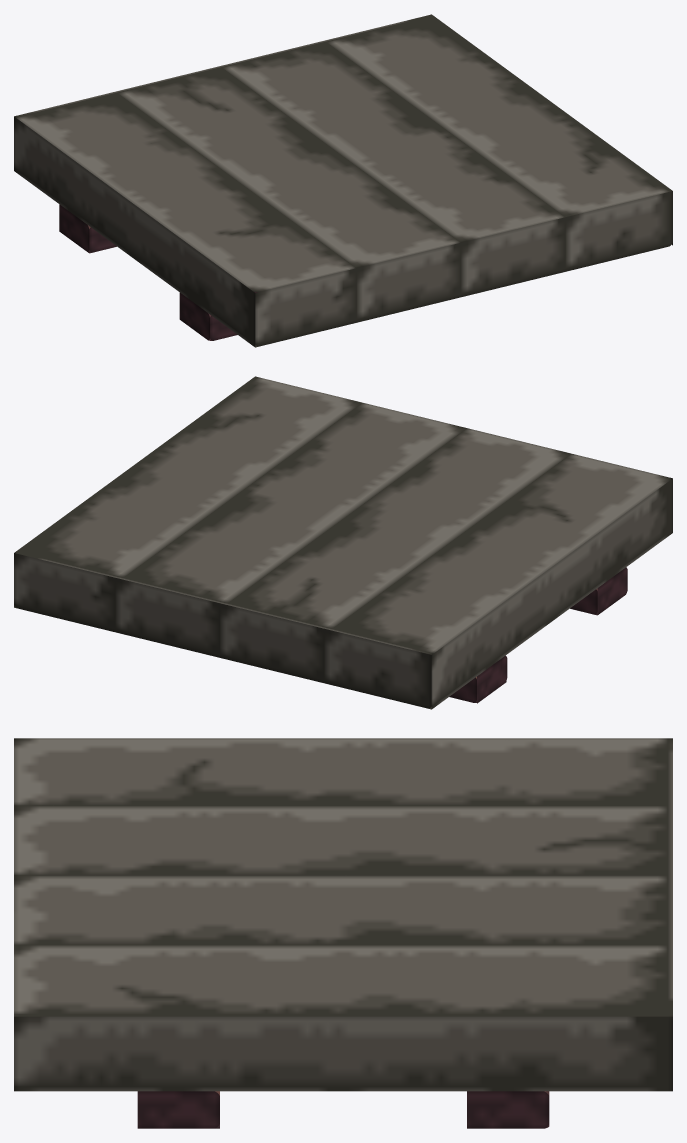
File: Ceiling_2x2_Supported.fbx
The picture shows the model from 3 angles, top to bottom: view 1: azimuth 30°, elevation 25°; view 2: azimuth 150°, elevation 25°; view 3: azimuth 270°, elevation 25°; orthographic projection. The views are drawn at different scales.
Parts seen in each view (by area): view 1: Ceiling_2x2_Supported; view 2: Ceiling_2x2_Supported; view 3: Ceiling_2x2_Supported.
Boxes of the visible parts, x1,y1,x2,y2 form: Ceiling_2x2_Supported: (14, 14, 672, 347); Ceiling_2x2_Supported: (14, 376, 672, 709); Ceiling_2x2_Supported: (14, 738, 672, 1128).
Bounding box in the file's own units: 400 × 75 × 400.
1 material, 1 textured.
